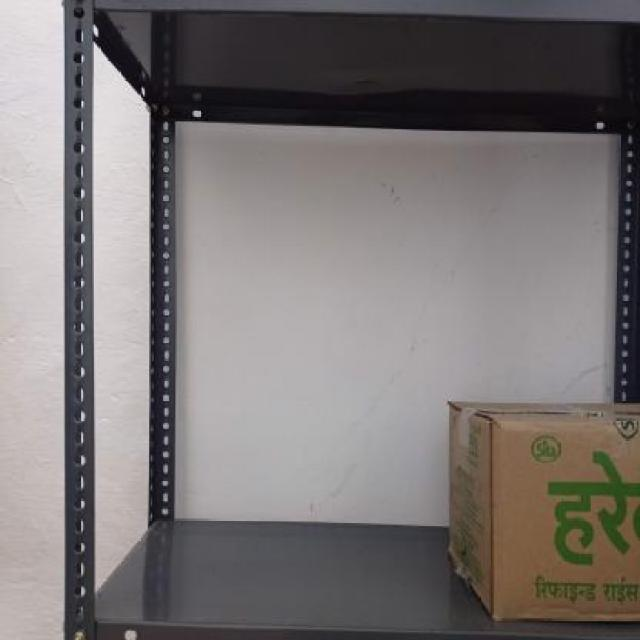box: (491, 413, 640, 615)
